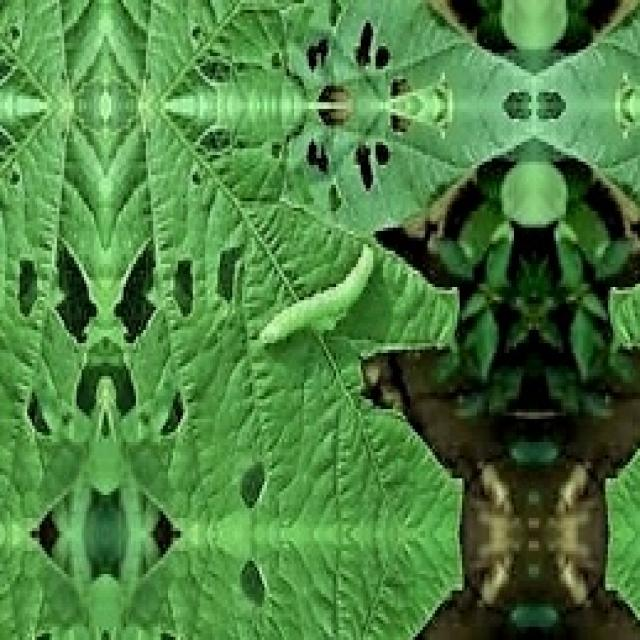armyworm: (259, 241, 384, 352)
